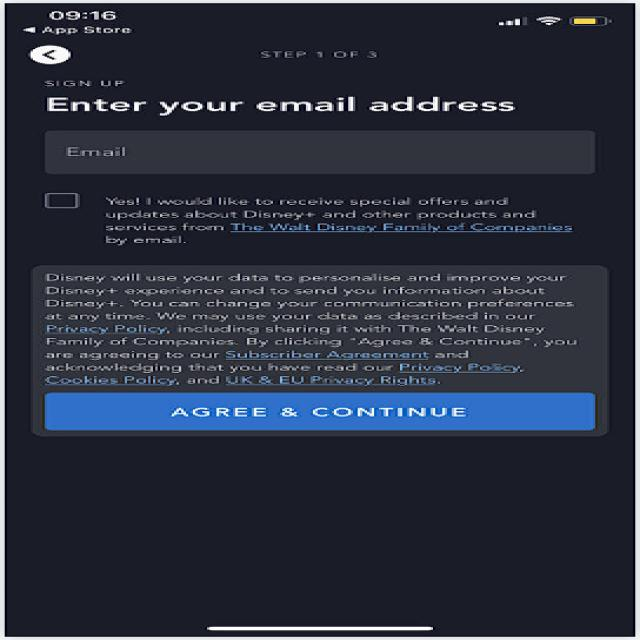button: (33, 387, 607, 437)
icon button: (18, 36, 94, 76)
input: (27, 118, 619, 181)
text: (33, 269, 625, 391), (92, 187, 597, 260), (33, 87, 595, 117)
